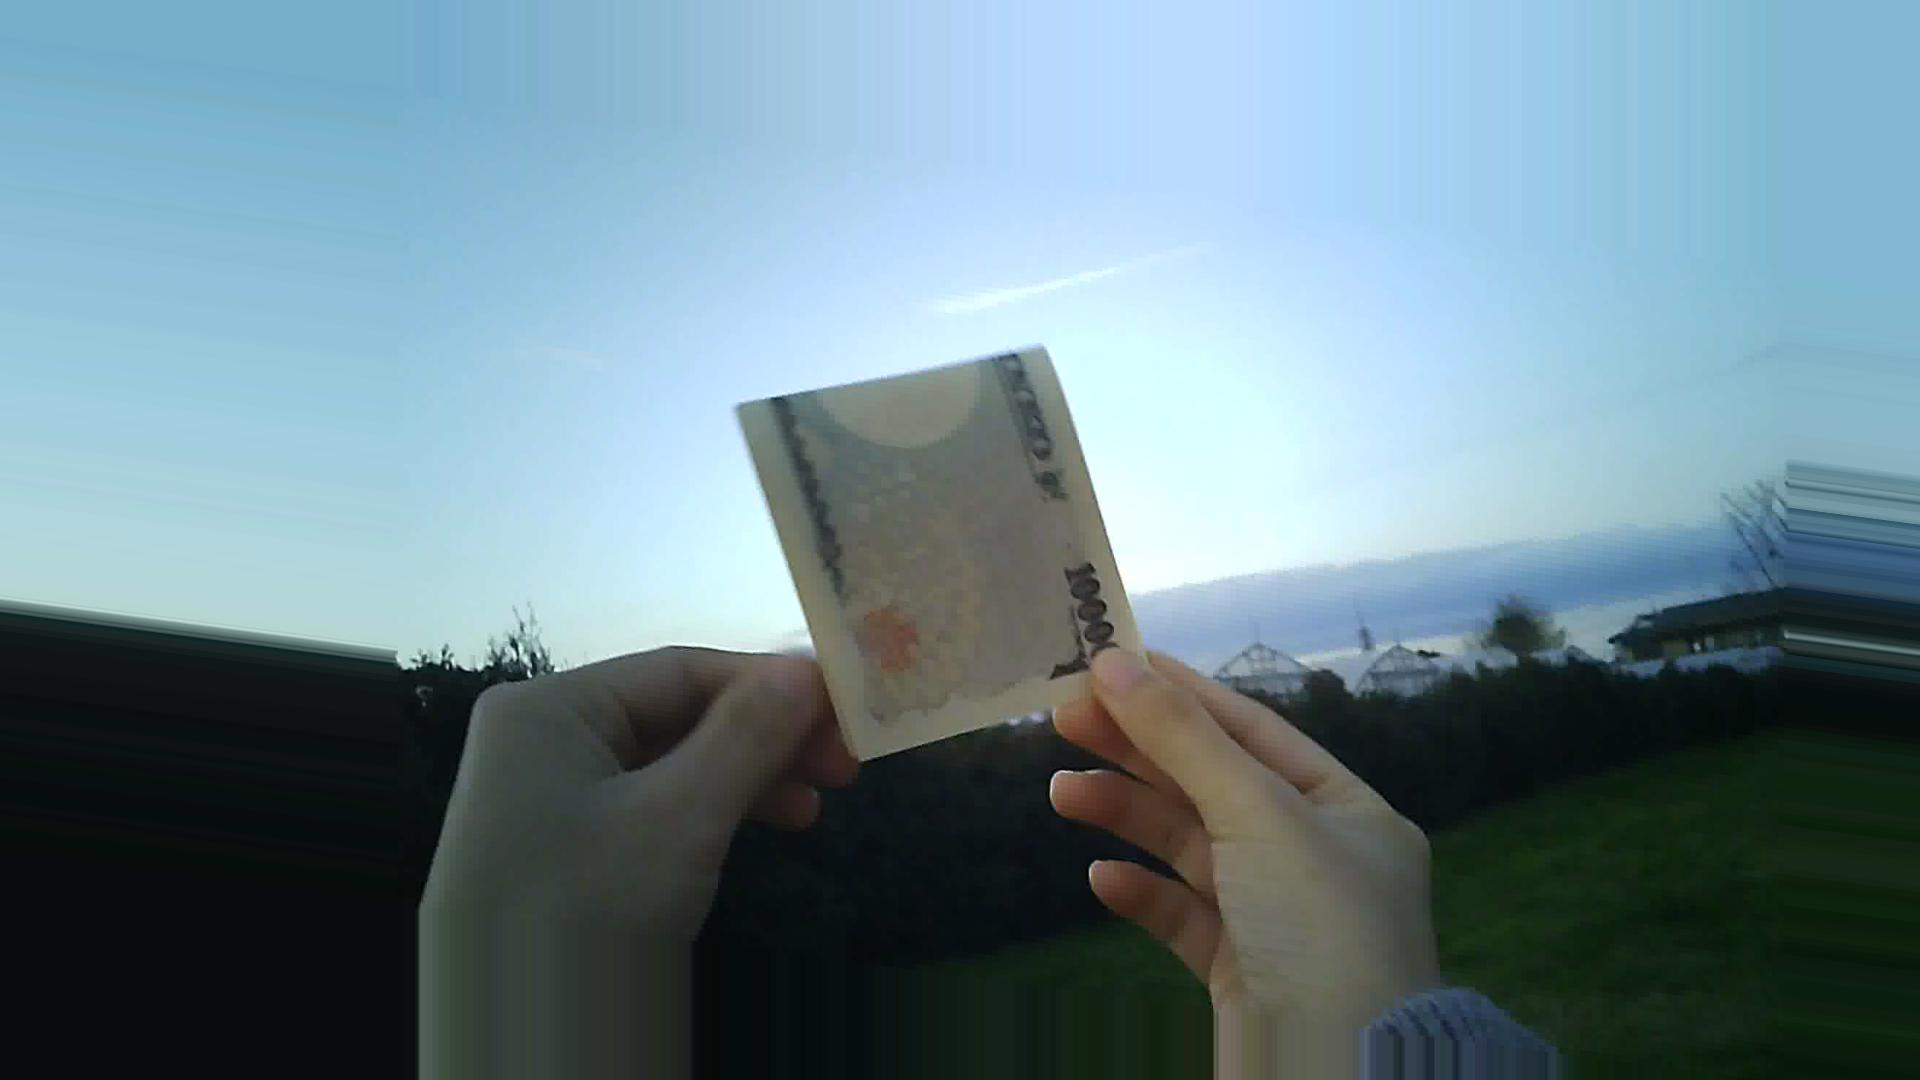10,000 Yen: (729, 309, 1139, 756)
